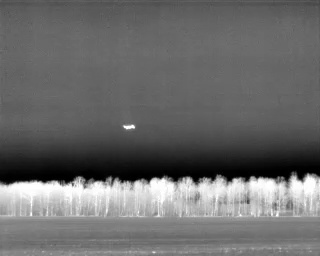DRONE: (119, 119, 140, 135)
